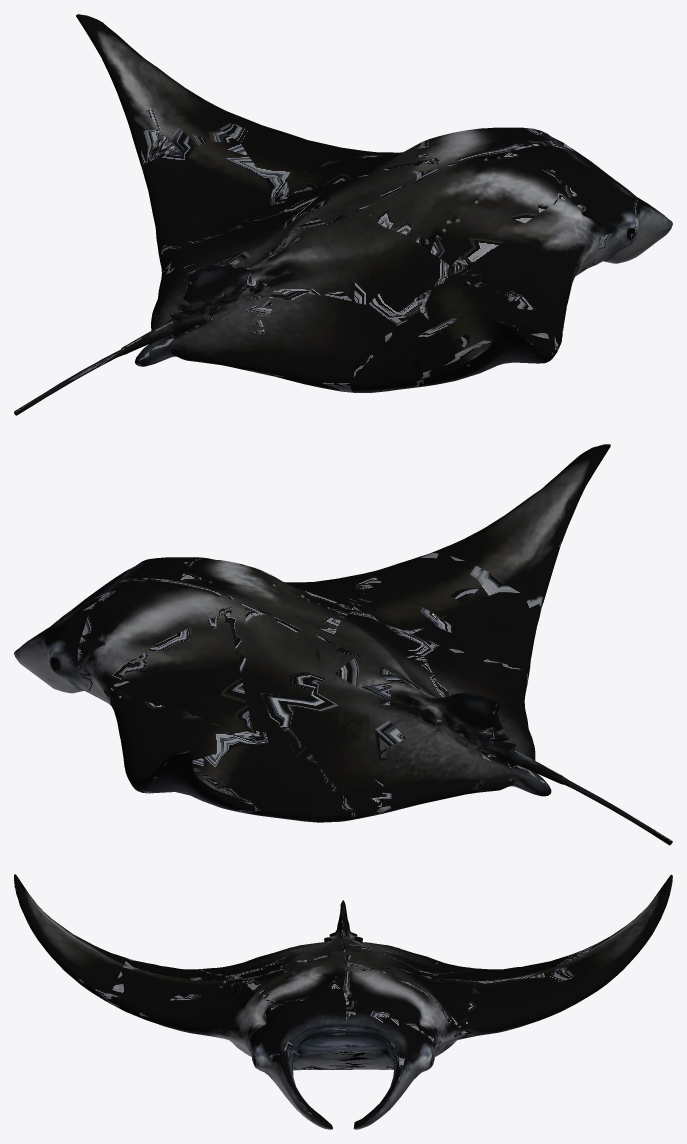
Rendered from rifmanta.glb.
3 views of the same model, one above another, from view 1: azimuth 30°, elevation 25°; view 2: azimuth 150°, elevation 25°; view 3: azimuth 270°, elevation 25° (orthographic). The views are drawn at different scales.
Visible parts, largest first — view 1: tripo_node_01d1d3ca-c04a-483e-bb78-4ba4ca288f55; view 2: tripo_node_01d1d3ca-c04a-483e-bb78-4ba4ca288f55; view 3: tripo_node_01d1d3ca-c04a-483e-bb78-4ba4ca288f55.
Part boxes in pixels (x1,y1,x2,y2): tripo_node_01d1d3ca-c04a-483e-bb78-4ba4ca288f55: (14, 14, 672, 415); tripo_node_01d1d3ca-c04a-483e-bb78-4ba4ca288f55: (14, 444, 672, 845); tripo_node_01d1d3ca-c04a-483e-bb78-4ba4ca288f55: (14, 874, 672, 1129).
Size of the model in its own units: 9.21 by 2.49 by 10.45.
Materials: 1 (1 with a texture image).
